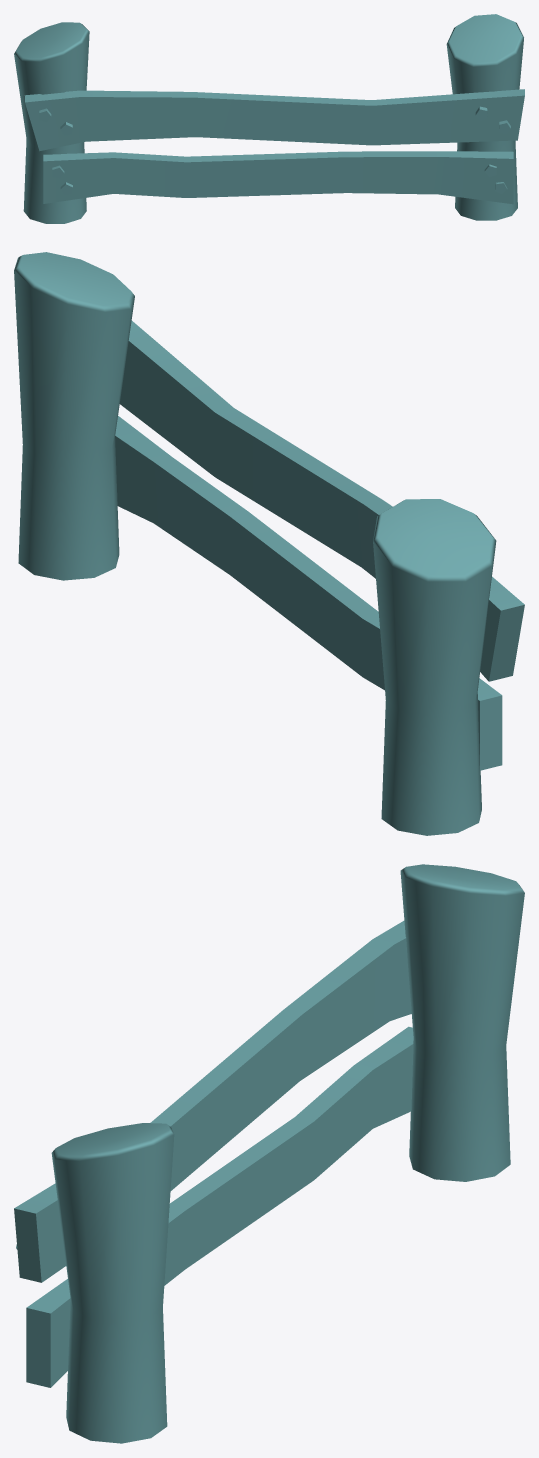
File: zabor.fbx
The picture shows the model from 3 angles, top to bottom: view 1: azimuth 30°, elevation 25°; view 2: azimuth 150°, elevation 25°; view 3: azimuth 270°, elevation 25°; orthographic projection. The views are drawn at different scales.
Visible parts, largest first — view 1: zabor1; view 2: zabor1; view 3: zabor1.
Boxes of the visible parts, x1,y1,x2,y2 form: zabor1: (14,14,524,223); zabor1: (14,252,524,835); zabor1: (14,864,524,1443).
Size of the model in its own units: 0.5104 by 0.2209 by 0.3433.
